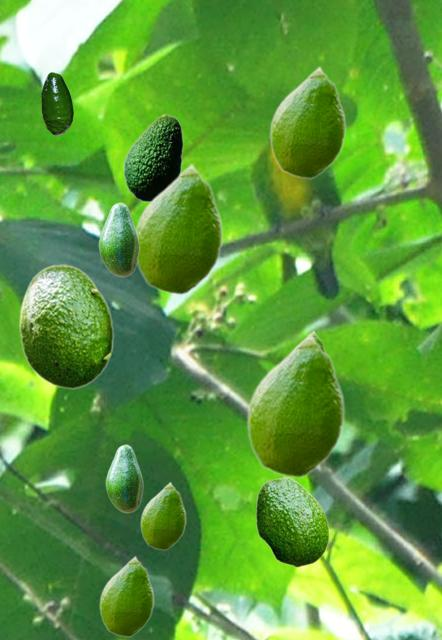avocado: (246, 332, 344, 477), (18, 264, 113, 388), (134, 162, 222, 294), (269, 65, 345, 178), (255, 477, 328, 566), (123, 114, 182, 201), (99, 555, 153, 636), (140, 481, 185, 549), (98, 202, 138, 276), (105, 444, 142, 512), (41, 72, 72, 134), (312, 330, 325, 350)
